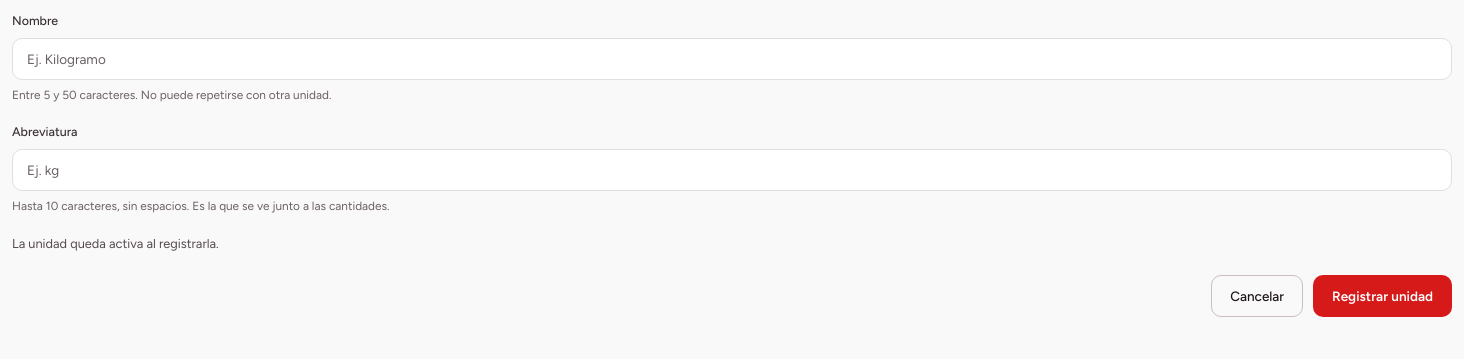
Test: CreateUnitForm › blocks a name that already exists, ignoring case
Type "KILOGRAMO" into the field labelled "Nombre". click: {"x": 732, "y": 59}
box: 12,38 -> 1452,80
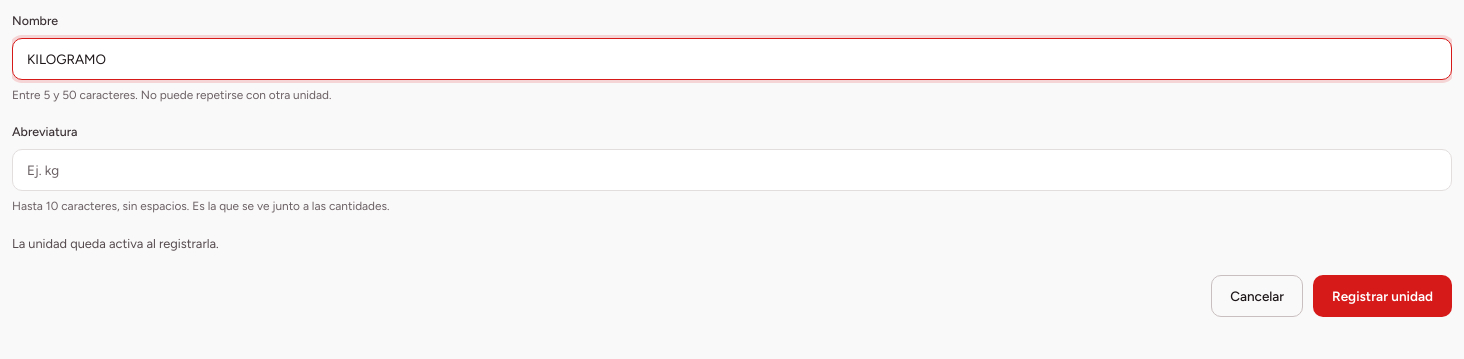
Type "kgr" into the field labelled "Abreviatura". click: {"x": 732, "y": 170}
box: 12,149 -> 1452,191
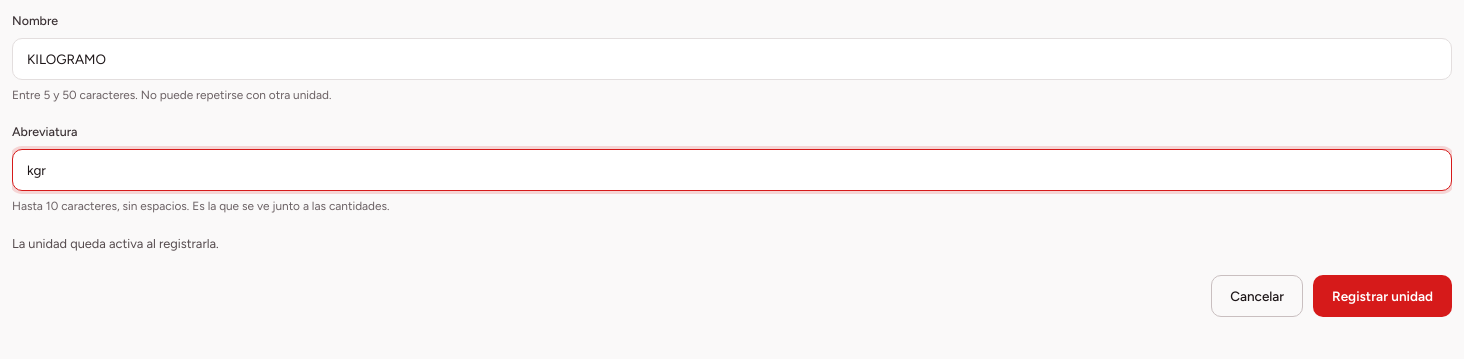
Click the button "Registrar unidad". click: {"x": 1383, "y": 296}
box: 1313,275 -> 1452,317
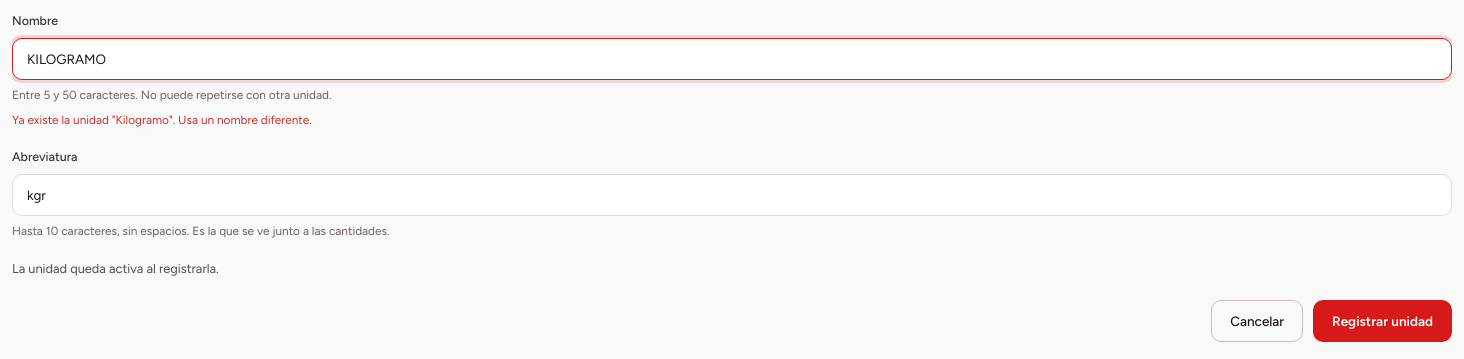
Now the text "Ya existe la unidad \"Kilogramo\". Usa un nombre diferente." is shown, box 12,113 -> 312,127
